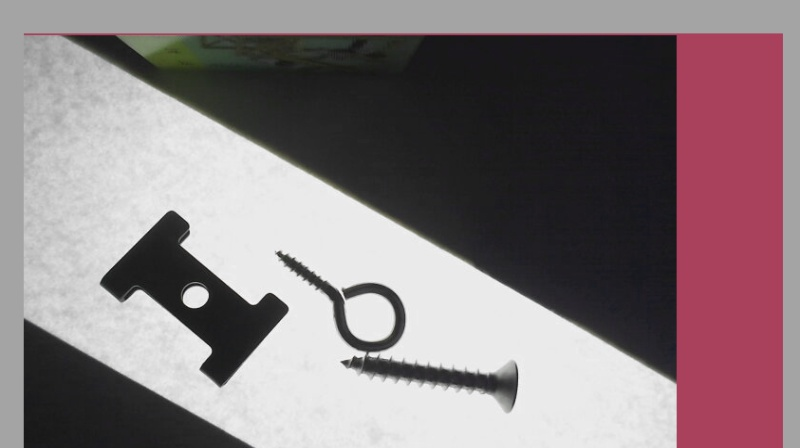O001: (271, 249, 409, 355)
O002: (97, 207, 292, 388)
S001: (339, 351, 525, 415)
